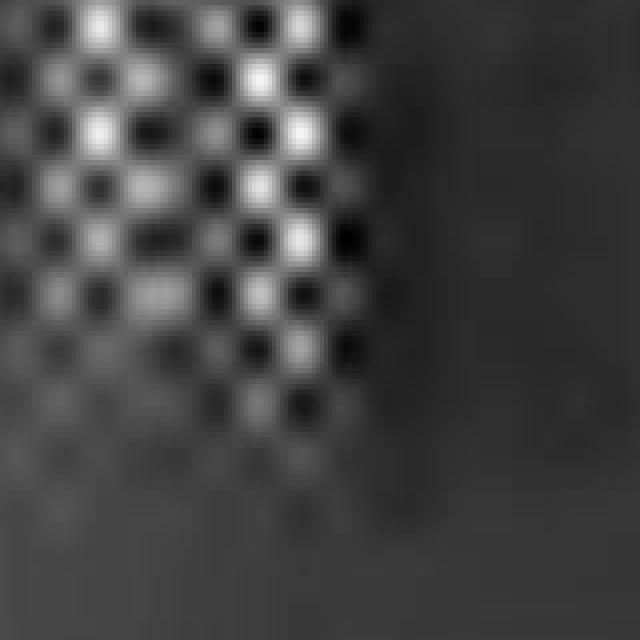person: (1, 1, 389, 550)
